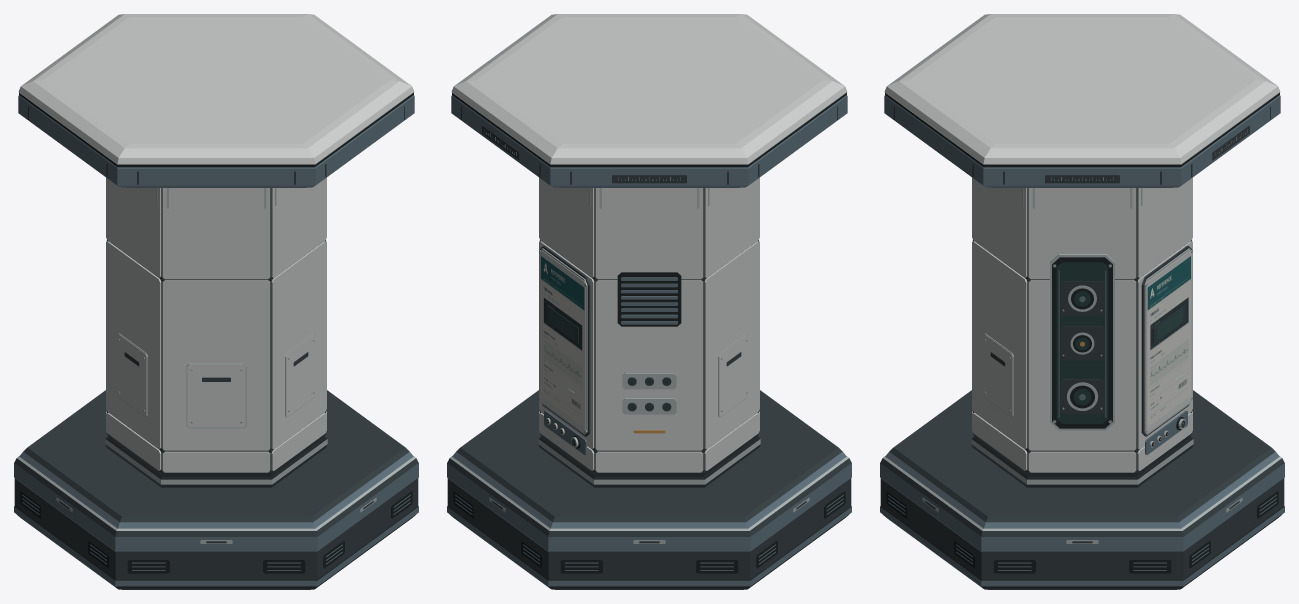
File: SM_TC_ReferenceClock.fbx
The picture shows the model from 3 angles, left to right: view 1: azimuth 30°, elevation 25°; view 2: azimuth 150°, elevation 25°; view 3: azimuth 270°, elevation 25°; orthographic projection.
Visible parts, largest first — view 1: SM_TC_ReferenceClock; view 2: SM_TC_ReferenceClock; view 3: SM_TC_ReferenceClock.
Boxes of the visible parts, x1,y1,x2,y2 form: SM_TC_ReferenceClock: (14,14,418,589); SM_TC_ReferenceClock: (447,14,851,589); SM_TC_ReferenceClock: (880,14,1284,589).
Size of the model in its own units: 425 by 490 by 590.
